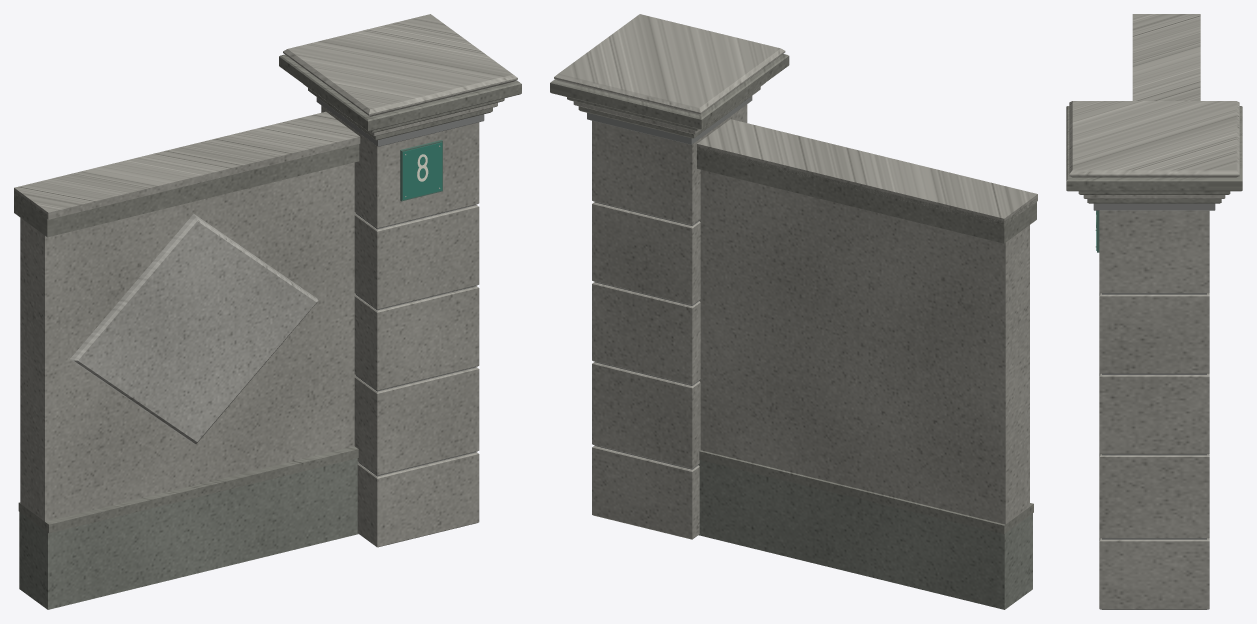
File: hongkou-dongzhaoli-no8-diamond-wall-lod.glb
The picture shows the model from 3 angles, left to right: view 1: azimuth 30°, elevation 25°; view 2: azimuth 150°, elevation 25°; view 3: azimuth 270°, elevation 25°; orthographic projection.
Parts seen in each view (by area): view 1: 东照里八号门柱与菱形院墙; view 2: 东照里八号门柱与菱形院墙; view 3: 东照里八号门柱与菱形院墙.
Boxes of the visible parts, x1,y1,x2,y2 form: 东照里八号门柱与菱形院墙: [14, 14, 521, 609]; 东照里八号门柱与菱形院墙: [550, 14, 1037, 609]; 东照里八号门柱与菱形院墙: [1066, 14, 1242, 609].
Size of the model in its own units: 2.44 by 2.41 by 0.854.
9 materials, 4 textured.
